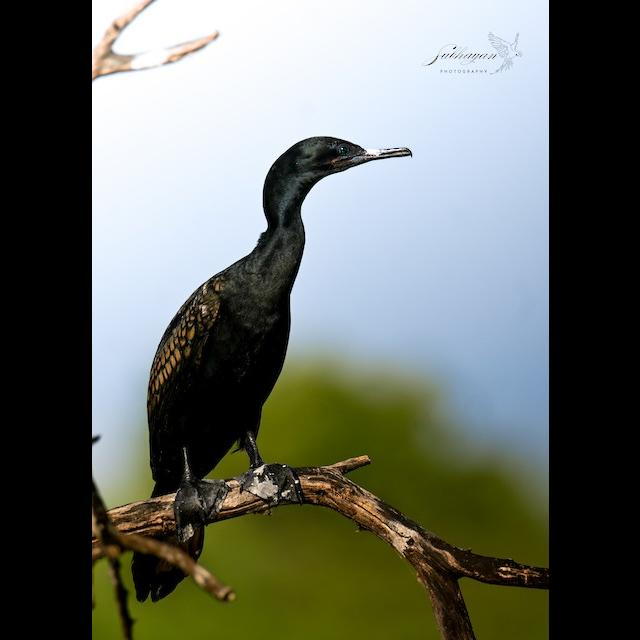cormorant: (151, 125, 417, 468)
